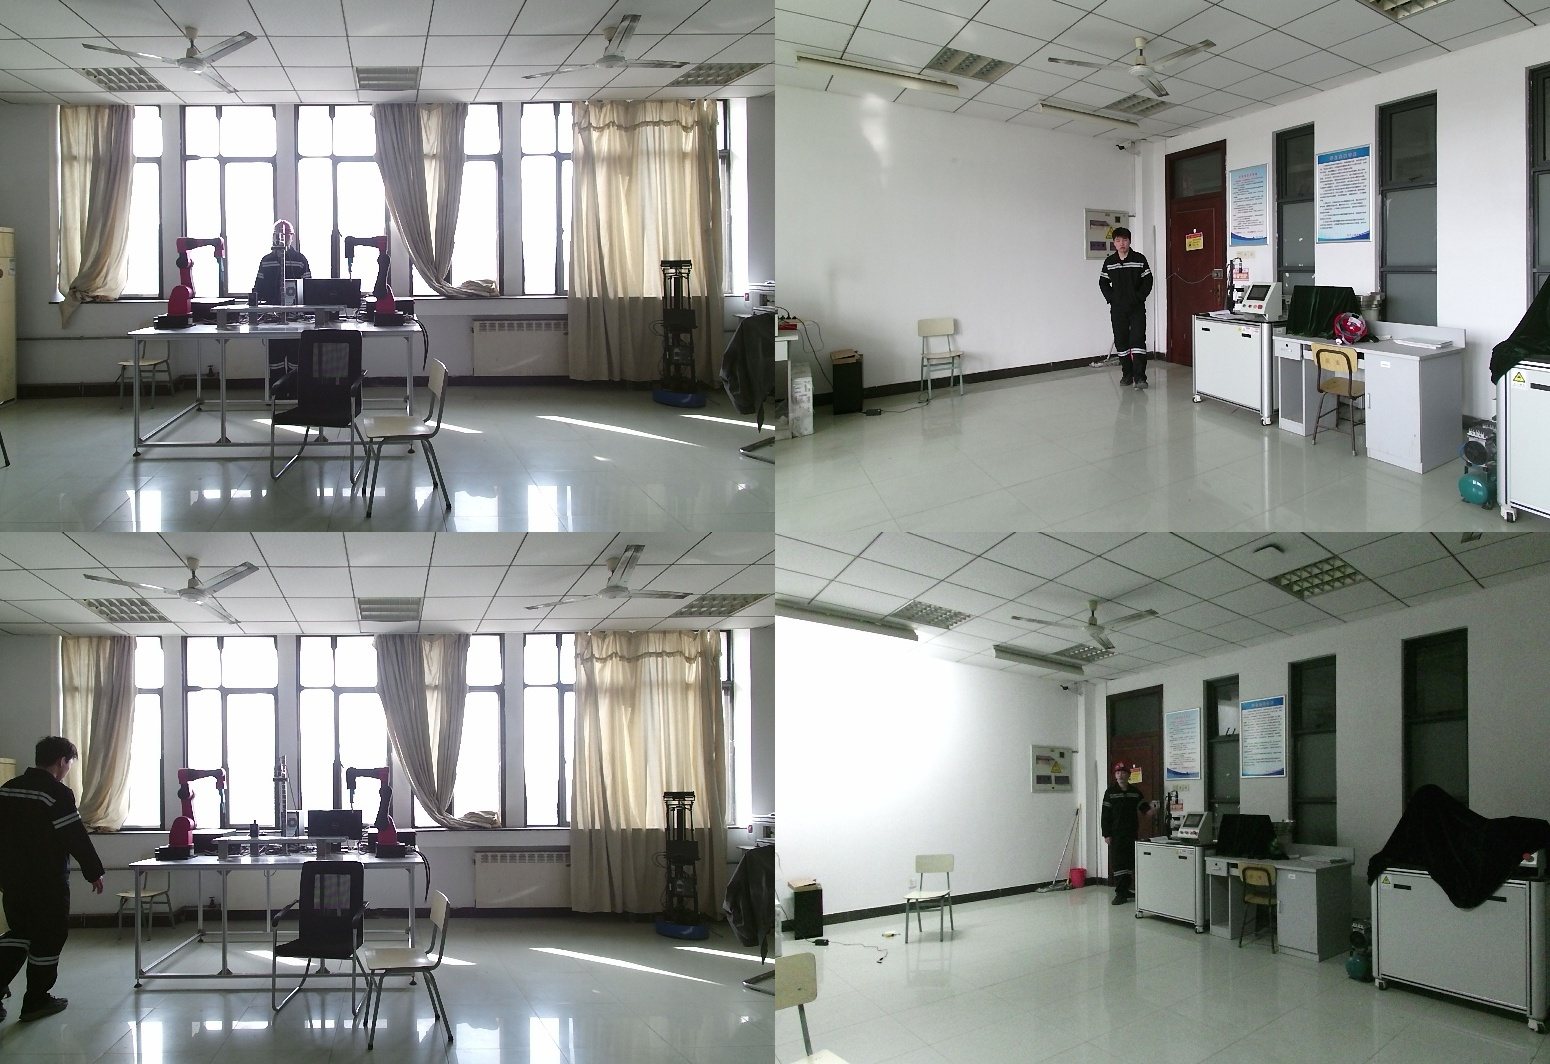person: (1, 736, 106, 1019), (251, 222, 312, 402), (1097, 229, 1158, 391), (1089, 765, 1144, 913)
